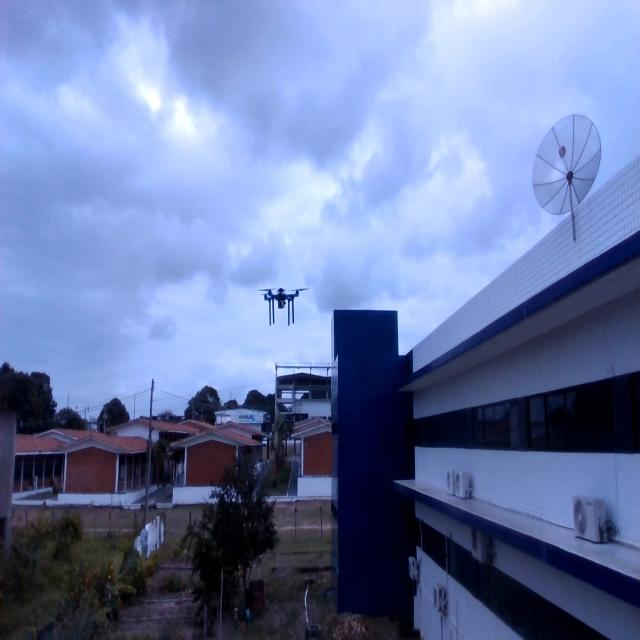-uav-: (252, 280, 325, 339)
